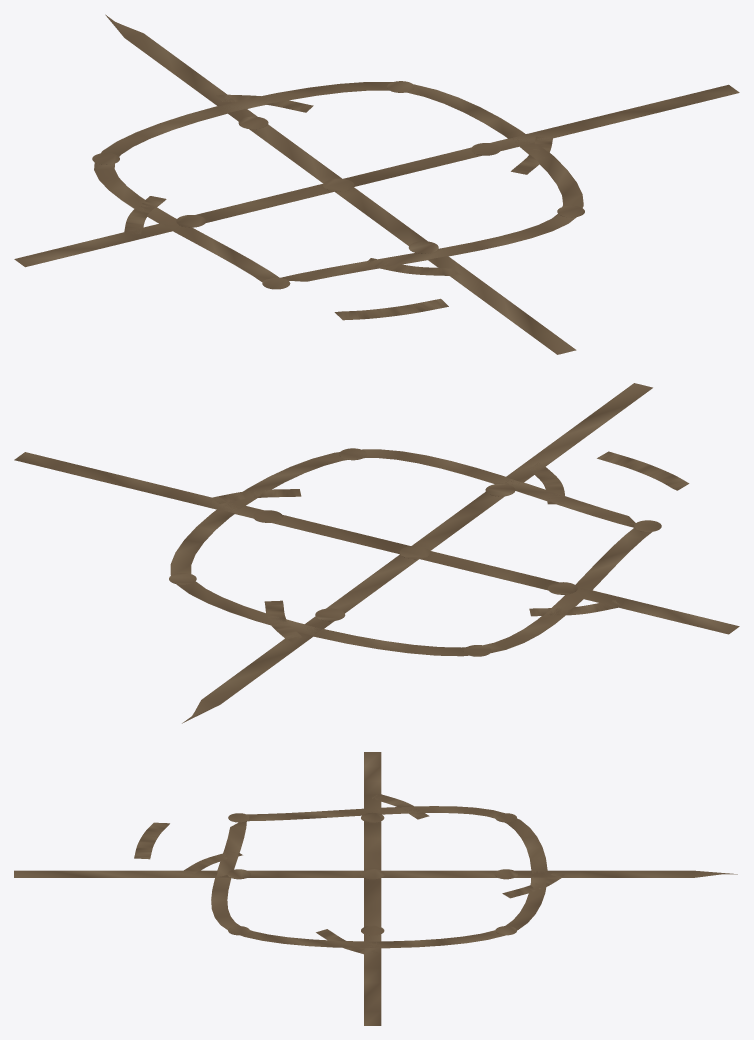
File: Roads_P1.fbx
The picture shows the model from 3 angles, top to bottom: view 1: azimuth 30°, elevation 25°; view 2: azimuth 150°, elevation 25°; view 3: azimuth 270°, elevation 25°; orthographic projection. The views are drawn at different scales.
Parts seen in each view (by area): view 1: Road.Loop, Road.Y, Road.X, Road.Loop.shoulder, Road.X.shoulder, Road.Y.shoulder, Road.Port, Spur.Market, Spur.Mine, Spur.Depot; view 2: Road.Loop, Road.Y, Road.X, Road.Loop.shoulder, Road.X.shoulder, Road.Y.shoulder, Road.Port, Spur.Depot, Spur.Refinery, Spur.Mine, Spur.Market; view 3: Road.Loop, Road.Y, Road.X, Road.Loop.shoulder, Road.Y.shoulder, Road.X.shoulder, Road.Port.
Boxes of the visible parts, x1=… form: Road.Loop: x1=95, y1=82, x2=582, y2=281; Road.Y: x1=106, y1=15, x2=575, y2=354; Road.X: x1=15, y1=85, x2=738, y2=266; Road.Loop.shoulder: x1=94, y1=82, x2=583, y2=282; Road.X.shoulder: x1=14, y1=84, x2=739, y2=267; Road.Y.shoulder: x1=105, y1=14, x2=576, y2=354; Road.Port: x1=335, y1=299, x2=448, y2=319; Spur.Market: x1=366, y1=258, x2=460, y2=275; Spur.Mine: x1=125, y1=196, x2=165, y2=233; Spur.Depot: x1=216, y1=95, x2=312, y2=112; Road.Loop: x1=171, y1=449, x2=650, y2=655; Road.Y: x1=183, y1=383, x2=652, y2=722; Road.X: x1=15, y1=452, x2=738, y2=633; Road.Loop.shoulder: x1=170, y1=449, x2=651, y2=656; Road.X.shoulder: x1=14, y1=452, x2=739, y2=634; Road.Y.shoulder: x1=182, y1=383, x2=652, y2=723; Road.Port: x1=597, y1=451, x2=688, y2=489; Spur.Depot: x1=265, y1=600, x2=301, y2=642; Spur.Refinery: x1=205, y1=489, x2=301, y2=505; Spur.Mine: x1=529, y1=600, x2=624, y2=615; Spur.Market: x1=528, y1=462, x2=564, y2=504; Road.Loop: x1=212, y1=806, x2=546, y2=947; Road.Y: x1=14, y1=871, x2=737, y2=877; Road.X: x1=364, y1=752, x2=380, y2=1025; Road.Loop.shoulder: x1=211, y1=806, x2=547, y2=948; Road.Y.shoulder: x1=14, y1=870, x2=733, y2=877; Road.X.shoulder: x1=364, y1=752, x2=381, y2=1025; Road.Port: x1=135, y1=822, x2=168, y2=858.
Bounding box in the file's own units: 35400 × 5.5 × 39679.
